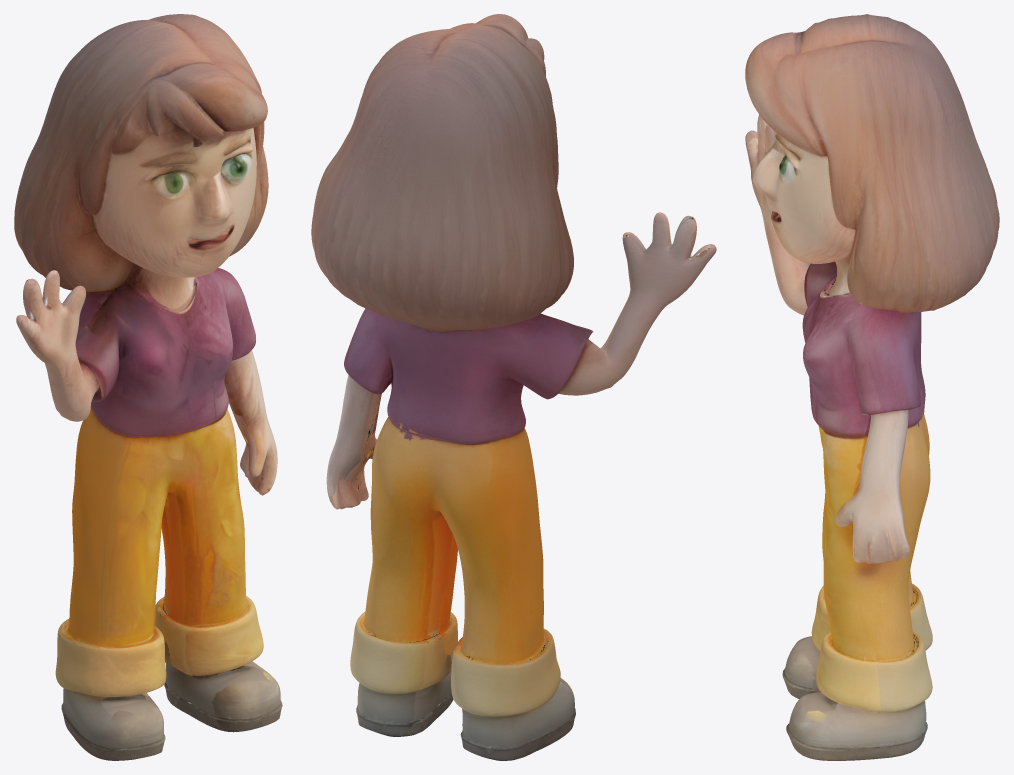
Rendered from NiñaC72.glb.
3 views of the same model, side by side, from view 1: azimuth 30°, elevation 25°; view 2: azimuth 150°, elevation 25°; view 3: azimuth 270°, elevation 25° (orthographic).
Parts seen in each view (by area): view 1: model; view 2: model; view 3: model.
Boxes of the visible parts, box(x1,y1,x2,y2) form: model: box(14, 14, 282, 760); model: box(311, 14, 716, 760); model: box(745, 14, 999, 760).
Bounding box in the file's own units: 0.9086 × 1.9 × 0.6308.
1 material, 1 textured.
